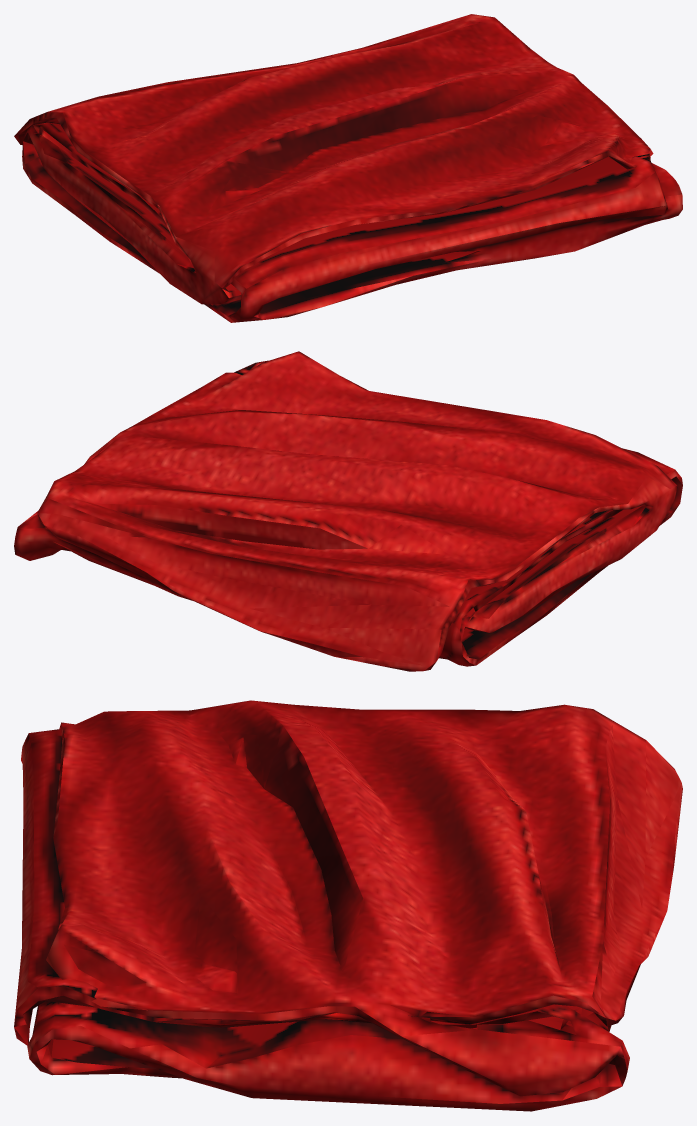
Rendered from item_6cape4.glb.
3 views of the same model, one above another, from view 1: azimuth 30°, elevation 25°; view 2: azimuth 150°, elevation 25°; view 3: azimuth 270°, elevation 25° (orthographic). The views are drawn at different scales.
Parts seen in each view (by area): view 1: equipment_6cape4; view 2: equipment_6cape4; view 3: equipment_6cape4.
Part boxes in pixels (bbox=[...]): equipment_6cape4: bbox=[14, 14, 682, 322]; equipment_6cape4: bbox=[14, 351, 682, 671]; equipment_6cape4: bbox=[14, 700, 682, 1111].
Bounding box in the file's own units: 1.01 × 0.2111 × 0.899.
Materials: 1 (1 with a texture image).
